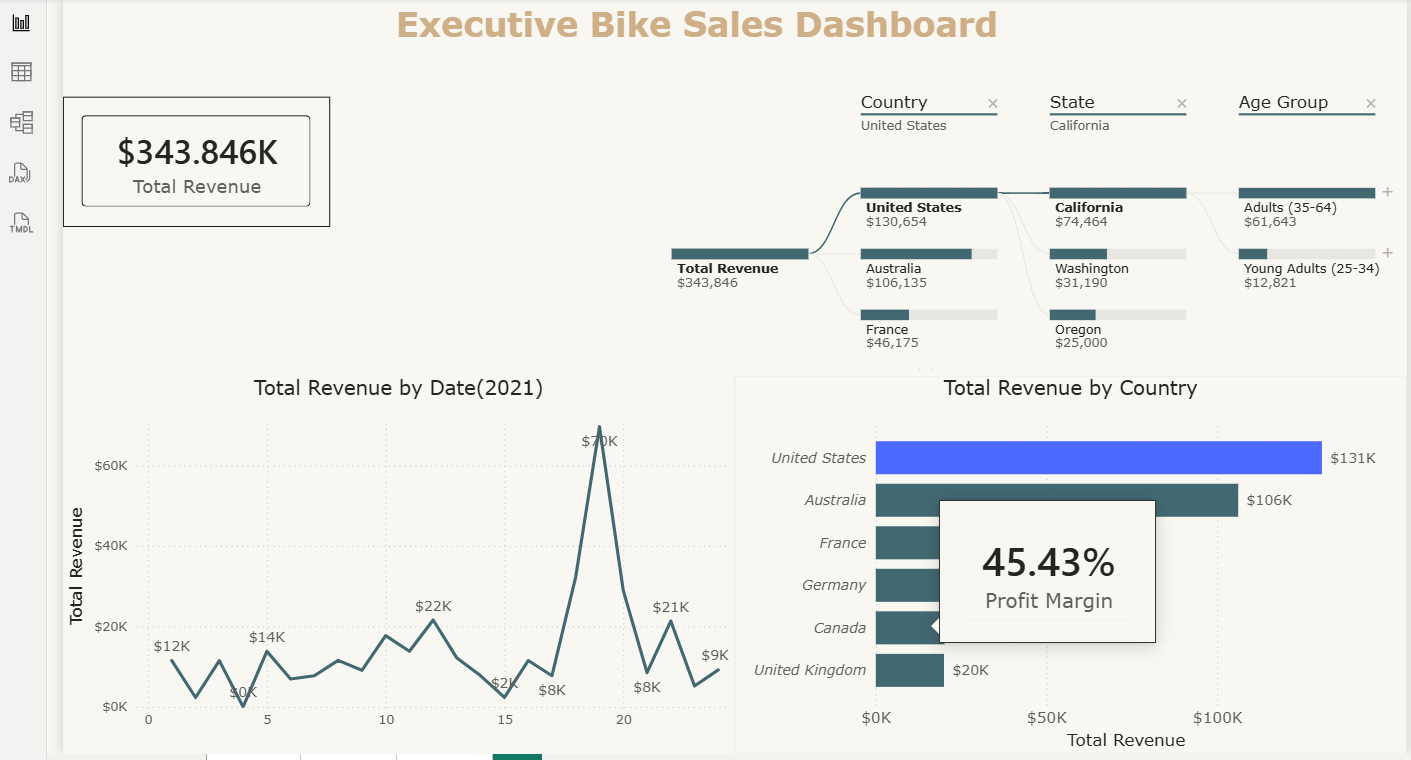

The page's visual inventory and layout, read from the dashboard file:
{"tool":"powerbi","page":{"name":"Page 1","canvas":[1280,720],"ordinal":0},"visuals":[{"type":"cardVisual","fields":{"Data":["Matrics.total_revenue"]},"box":[0,94,254.8,123.8],"z":0},{"type":"lineChart","title":"Total Revenue by Date(2021)","fields":{"Category":["Bike Sales.Date.Variation.Date Hierarchy.Year","Bike Sales.Date.Variation.Date Hierarchy.Quarter","Bike Sales.Date.Variation.Date Hierarchy.Month","Bike Sales.Date.Variation.Date Hierarchy.Day"],"Y":["Matrics.total_revenue"]},"box":[0,359.5,639.3,360.7],"z":1000},{"type":"clusteredBarChart","title":"Total Revenue by Country","fields":{"Category":["Bike Sales.Country"],"Y":["Matrics.total_revenue"]},"box":[639.5,359.5,640.8,360.9],"z":2000},{"type":"decompositionTreeVisual","fields":{"Analyze":["Matrics.total_revenue"],"ExplainBy":["Bike Sales.Country","Bike Sales.State","Bike Sales.Age_Group","Bike Sales.Customer_Gender"]},"box":[550,75,729.8,284.5],"z":3000},{"type":"textbox","box":[284.5,0,638.1,59.5],"z":3001}]}

Visuals, with their boxes on the page's 1280x720 design canvas (x1, y1, x2, y2). These are canvas units, not pixel positions in the 1411x760 screenshot, which may show the page scaled, cropped or inside an application window:
cardVisual - Matrics.total_revenue: box(0, 94, 255, 218)
"Total Revenue by Date(2021)" lineChart: box(0, 360, 639, 720)
"Total Revenue by Country" clusteredBarChart: box(640, 360, 1280, 720)
decompositionTreeVisual - Matrics.total_revenue x Bike Sales.Country: box(550, 75, 1280, 360)
textbox: box(284, 0, 923, 60)
